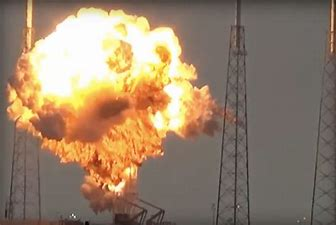fire: (8, 5, 225, 199)
